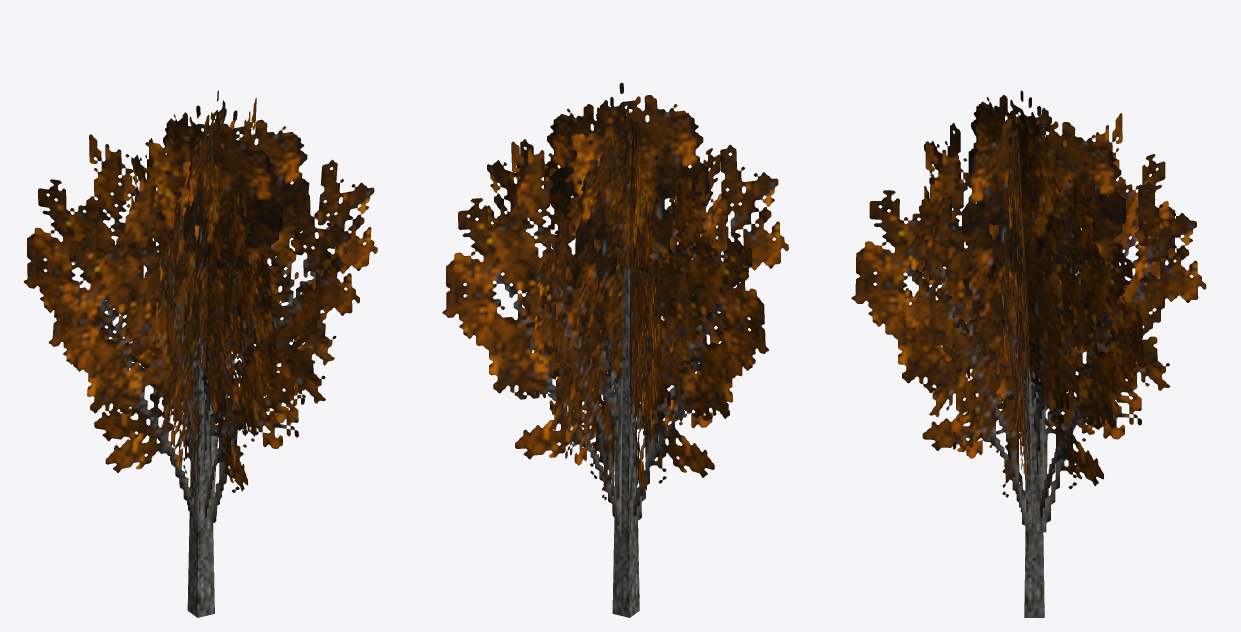
File: Tree_7.fbx
3 views of the same model, side by side, from view 1: azimuth 30°, elevation 25°; view 2: azimuth 150°, elevation 25°; view 3: azimuth 270°, elevation 25° (orthographic).
Visible parts, largest first — view 1: Tree.7; view 2: Tree.7; view 3: Tree.7.
Boxes of the visible parts, left/top/right/bottom form: Tree.7: left=23, top=90, right=377, bottom=617; Tree.7: left=442, top=82, right=788, bottom=617; Tree.7: left=851, top=90, right=1206, bottom=617.
Bounding box in the file's own units: 641 × 954 × 608.
